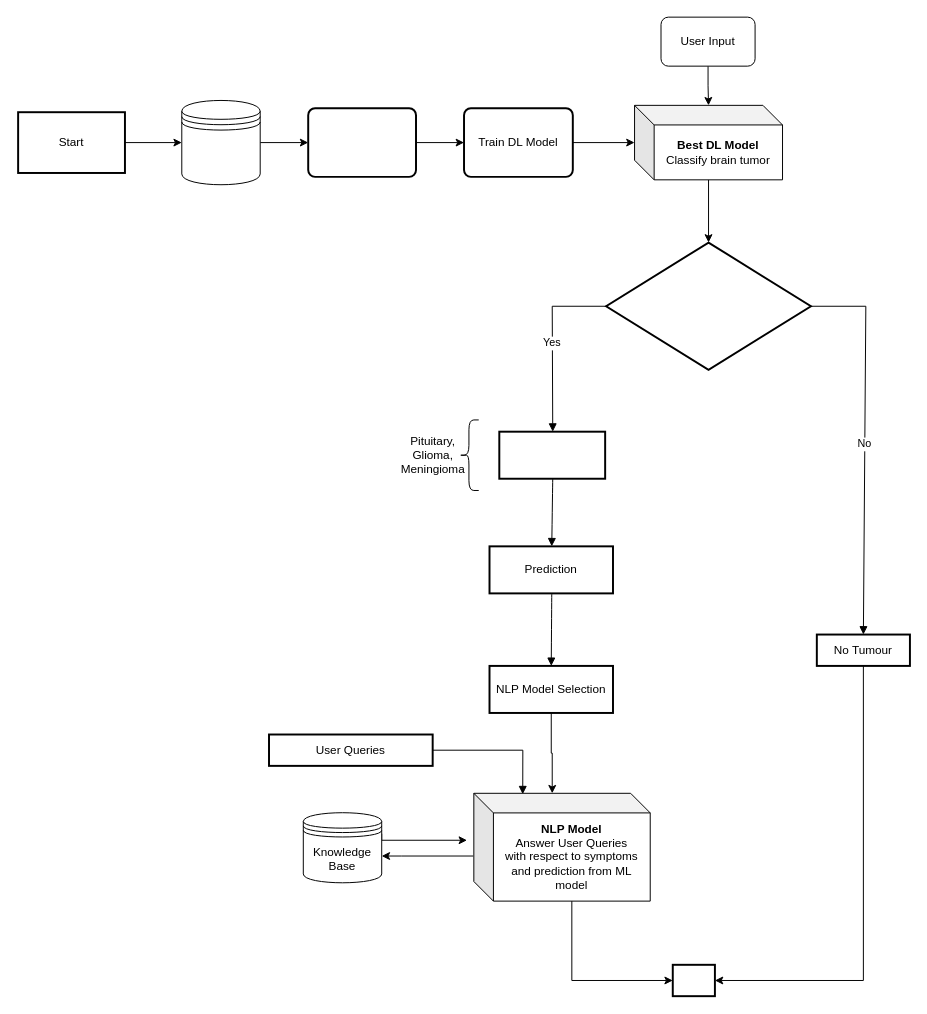
Some shapes in this 927 by 1014 pixel diagram are drawn without their labels. Each missing label, with the centre of its shape:
"Detect Tumour Type" goes at (x=552, y=454).
"End" goes at (x=693, y=980).
"Is there a brain tumour?" goes at (x=708, y=305).
"MRI Scans" goes at (x=220, y=142).
"Preprocess Images" goes at (x=361, y=142).
